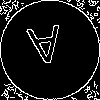A: (25, 25, 66, 75)
